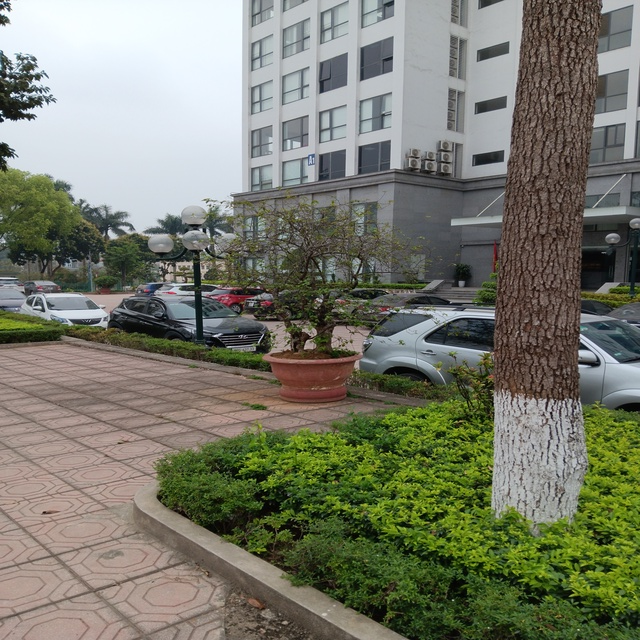caycanh: (236, 205, 375, 402)
